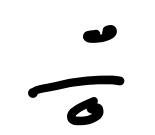div: (28, 25, 124, 126)
